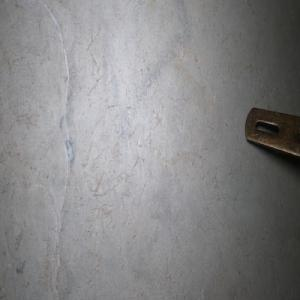MetalPart: (244, 104, 300, 161)
